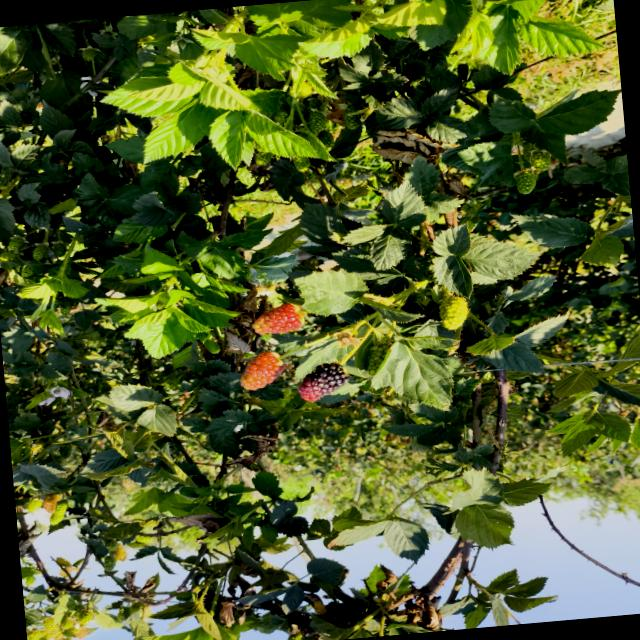marron: (298, 363, 348, 401)
naranja: (240, 351, 286, 389), (252, 303, 303, 334)
verde: (439, 296, 468, 329)
